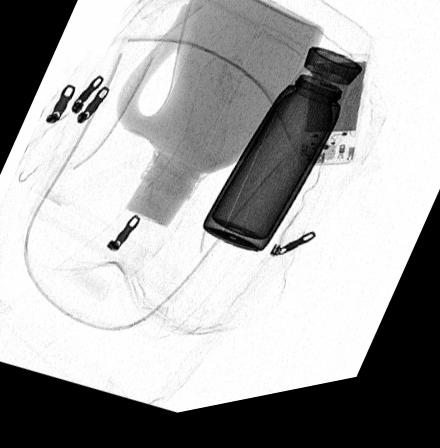Powerbank: (297, 66, 370, 178)
